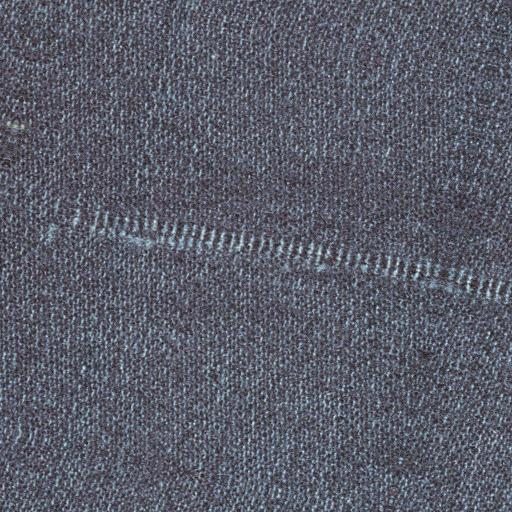slub: (69, 196, 511, 322)
